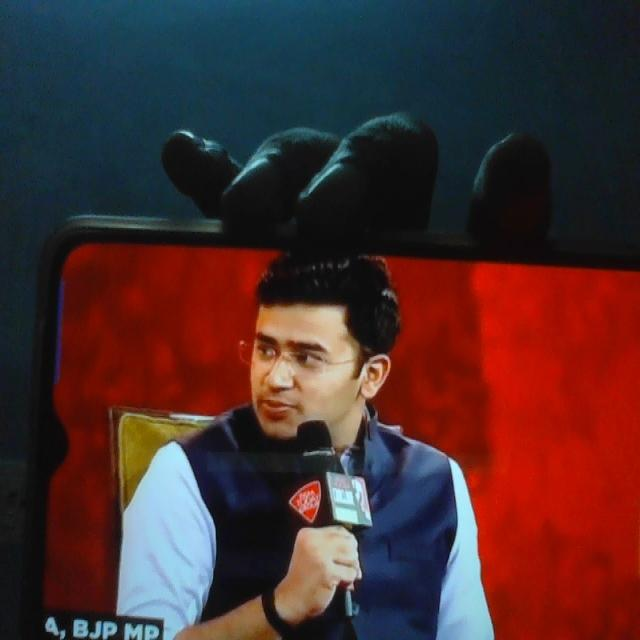fake: (235, 226, 364, 470)
